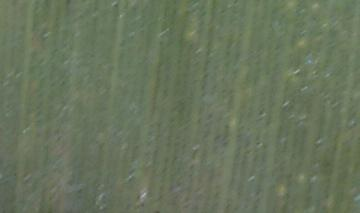tarspot: (109, 1, 120, 9), (63, 1, 72, 9), (151, 209, 161, 213)
